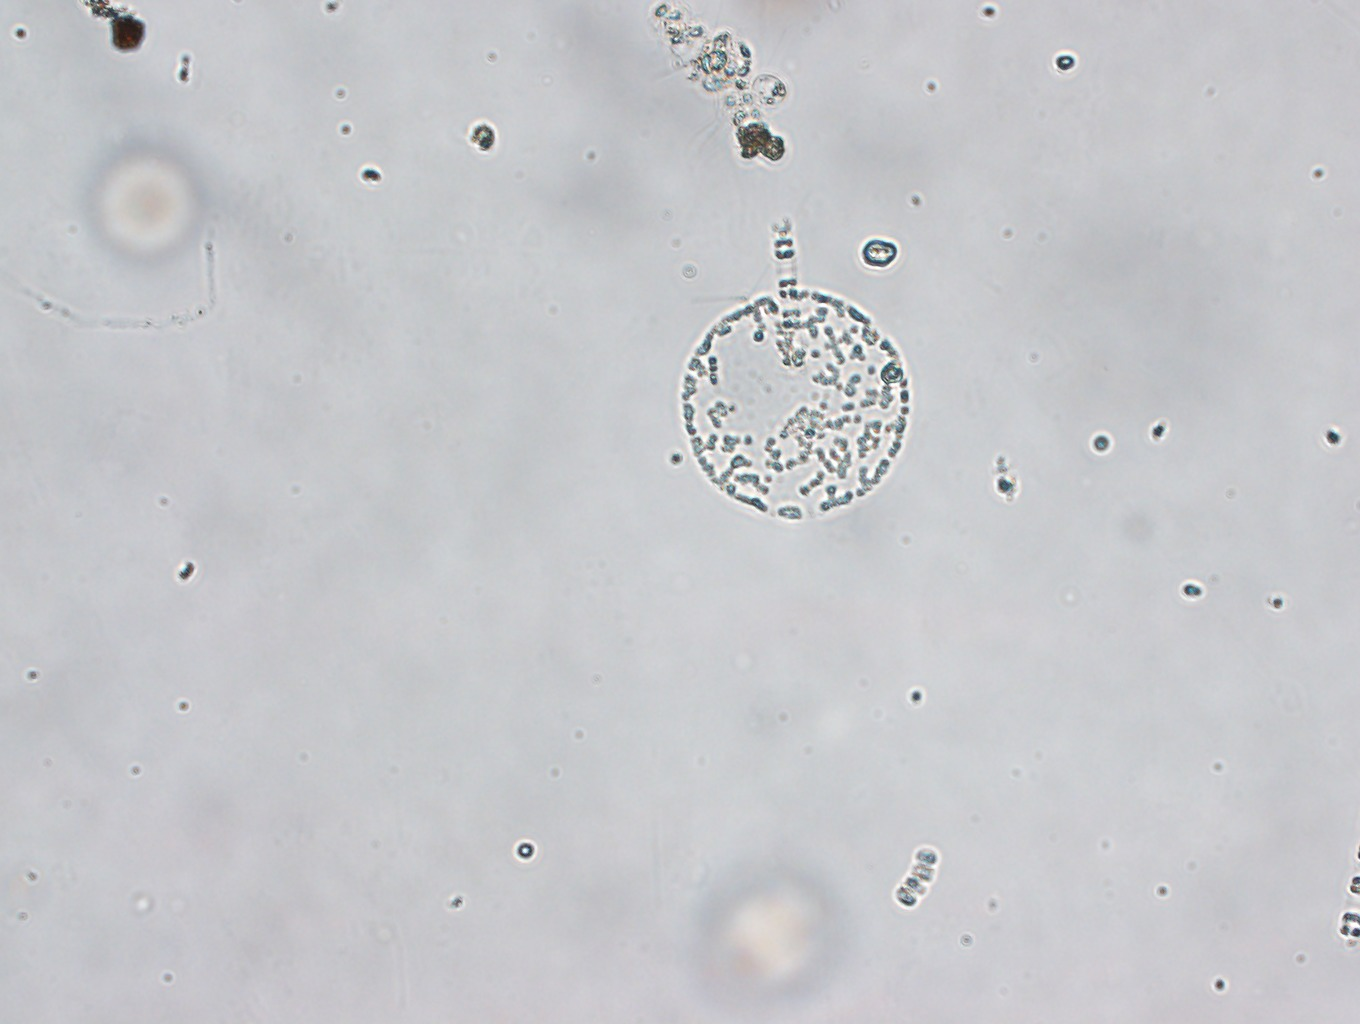coscinodiscus: (679, 289, 911, 520)
